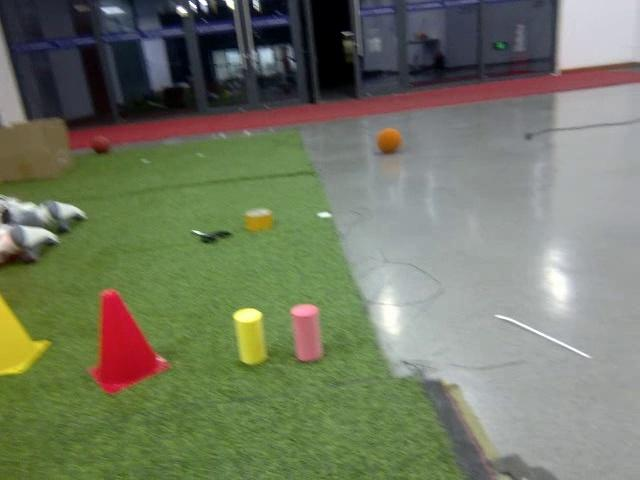orange_ball: (376, 126, 403, 153)
red_ball: (88, 134, 111, 154)
red_barrel: (85, 289, 169, 395)
red_cylinder: (290, 304, 324, 363)
yellow_barrel: (0, 292, 50, 374)
yellow_cylinder: (233, 305, 271, 368)
